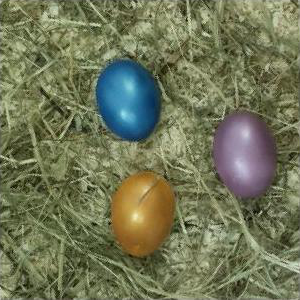egg: (110, 171, 176, 258), (215, 112, 277, 201), (95, 60, 162, 142)
